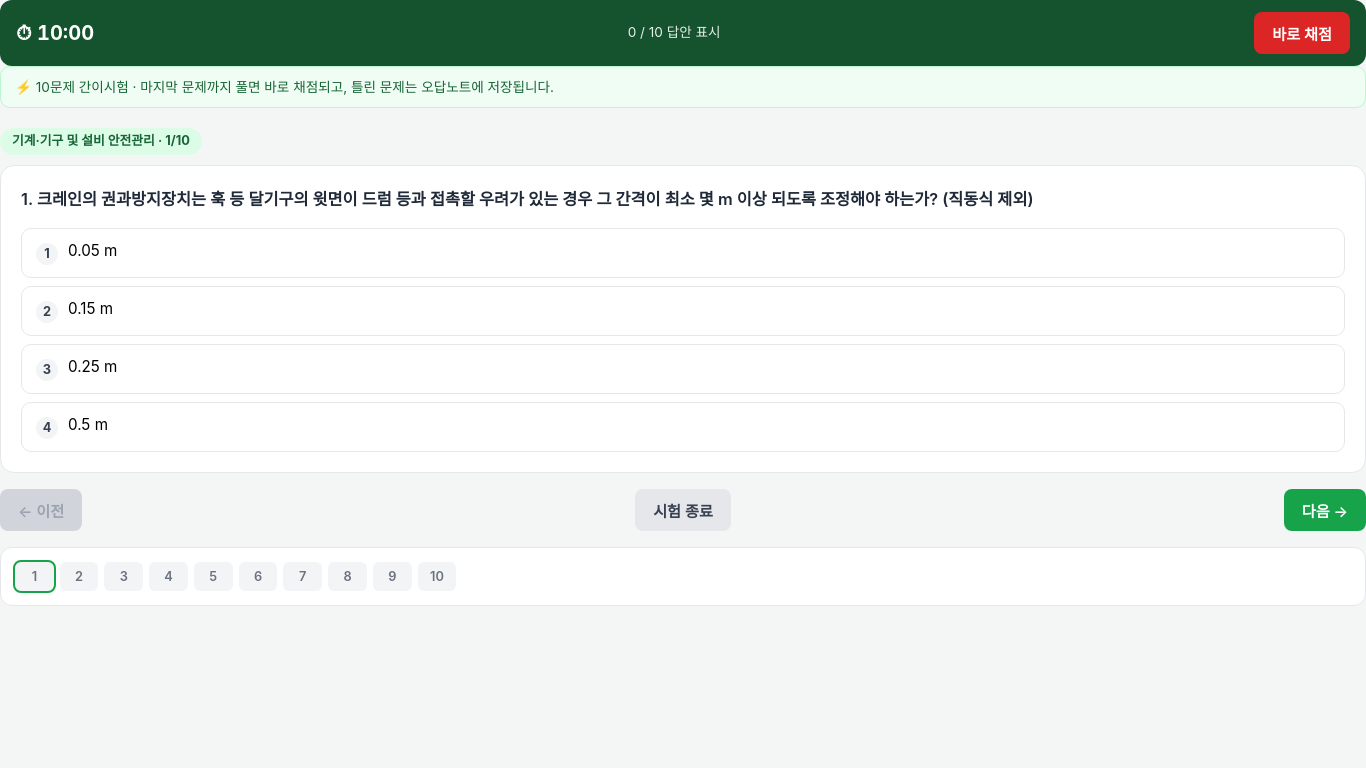
Scenario: CbtExam › 제출하면 기록이 저장되고 진행 중 시험은 지워진다
Click the button "바로 채점".
click(1302, 33)  # box [1254,12,1350,54]
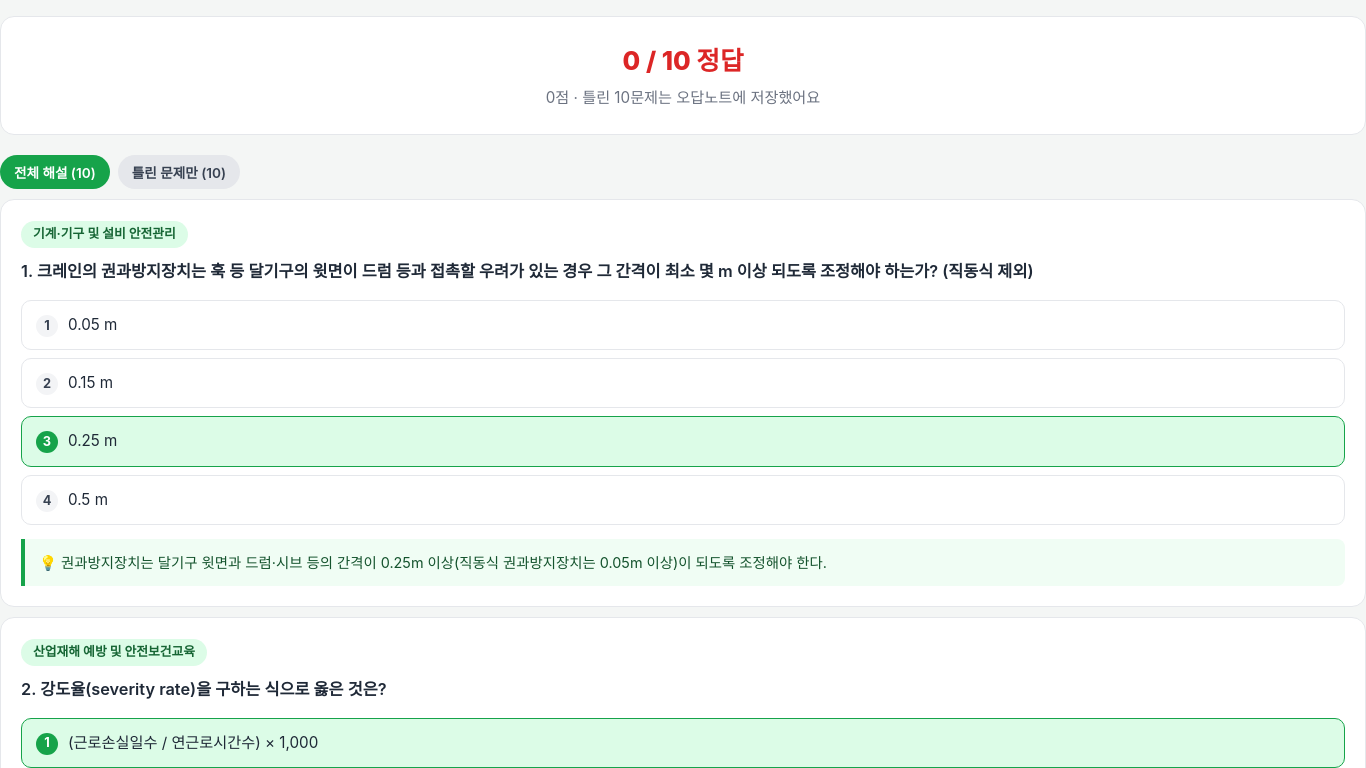
expect the text "0 / 10 정답" is shown: met, box [623,45,744,76]
